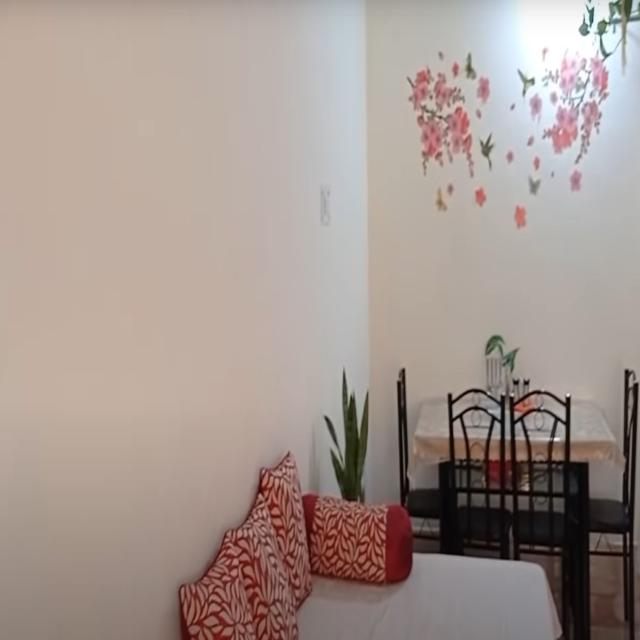Non_Damaged: (9, 6, 638, 640)
